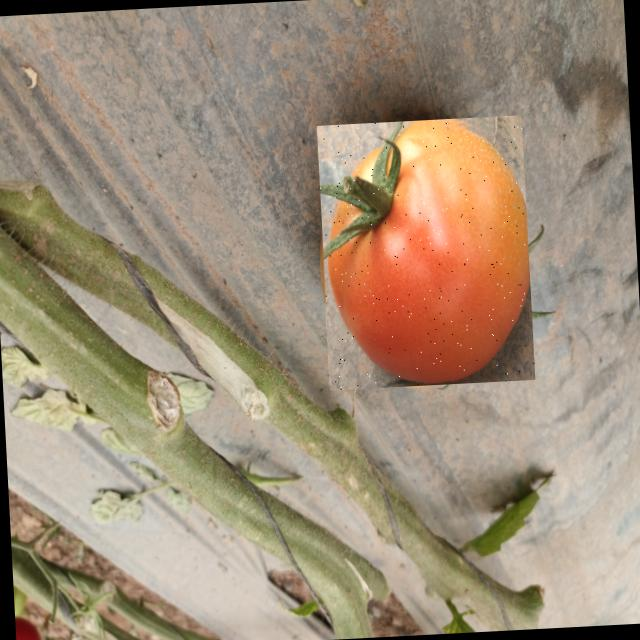Ripe Tomato: (316, 116, 536, 390)
